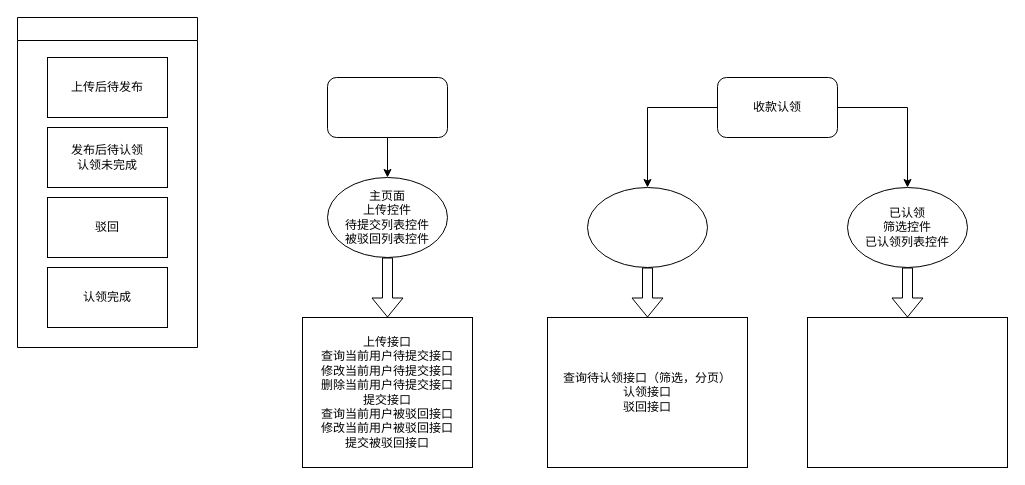
The diagram is 1025 pixels wide and 485 high, and some of its shapes have lost their labels. Each missing label, with the box of its shape:
待认领 筛选控件 待认领列表控件: (586, 186, 708, 268)
收款图上传: (326, 76, 448, 138)
数据的状态: (16, 16, 198, 348)
查询认领完成接口（筛选，分页）: (806, 316, 1008, 468)
